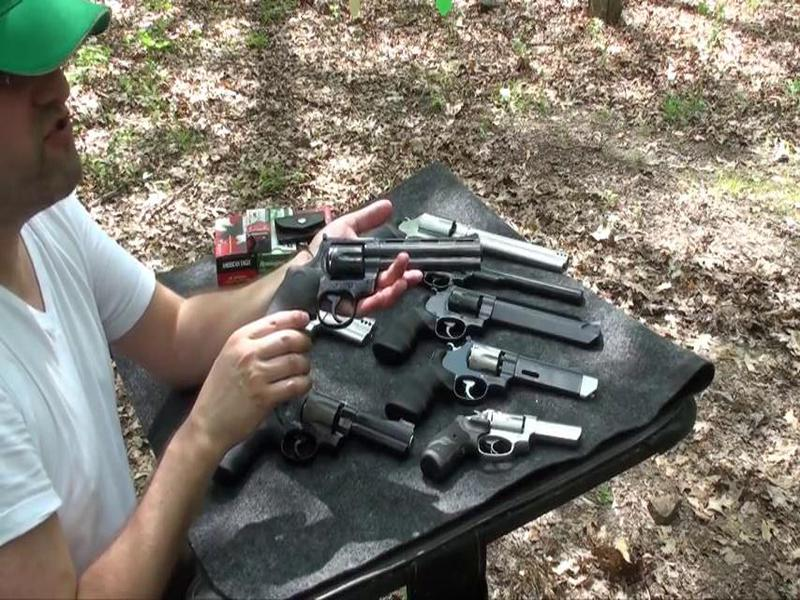Revolver: (251, 211, 489, 362)
